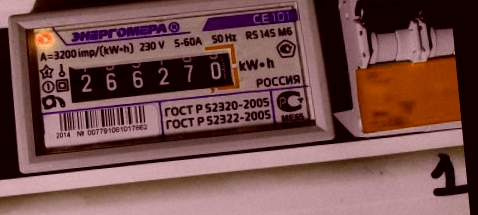0: (208, 59, 223, 80)
2: (78, 72, 95, 94), (155, 65, 171, 86)
6: (104, 70, 119, 92), (131, 69, 145, 90)
7: (181, 63, 195, 83)
screen: (58, 40, 246, 110)
